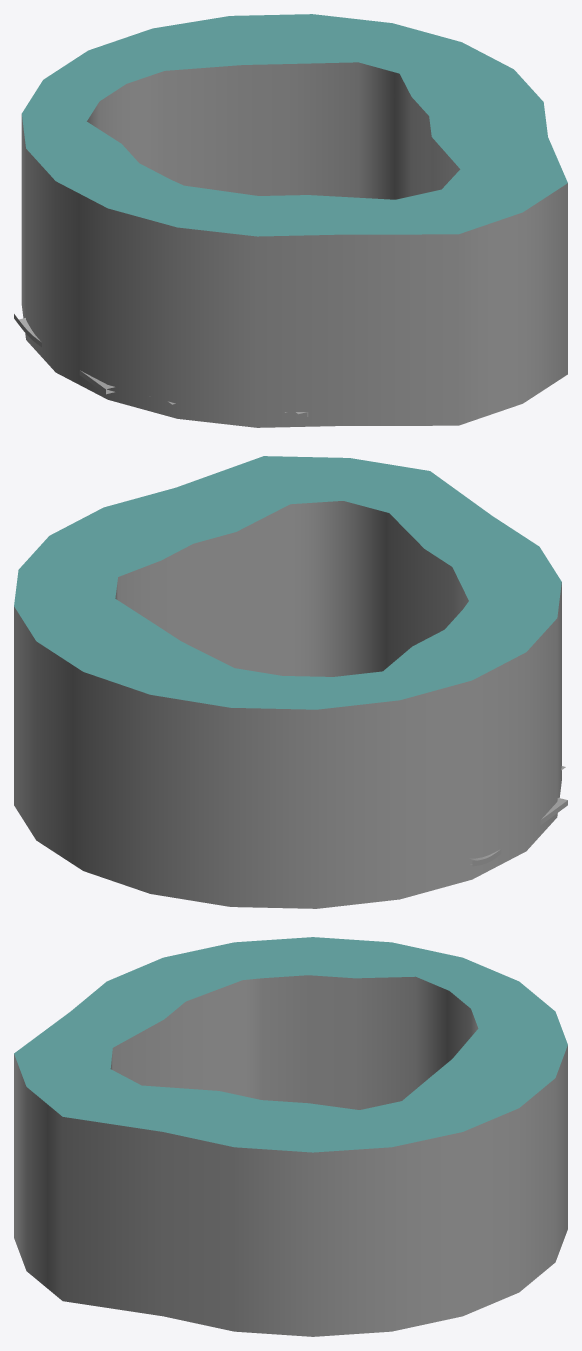
Rendered from Crater.fbx.
3 renders of one model, top to bottom at view 1: azimuth 30°, elevation 25°; view 2: azimuth 150°, elevation 25°; view 3: azimuth 270°, elevation 25°, orthographic. The views are drawn at different scales.
Visible parts, largest first — view 1: pPipe1, pCube3; view 2: pPipe1; view 3: pPipe1.
Part boxes in pixels (box(x1,y1,x2,y2)): pPipe1: box(21, 14, 567, 427); pCube3: box(14, 314, 308, 416); pPipe1: box(14, 456, 561, 908); pPipe1: box(14, 937, 567, 1336).
Bounding box in the file's own units: 9.6 × 3.92 × 10.43.
